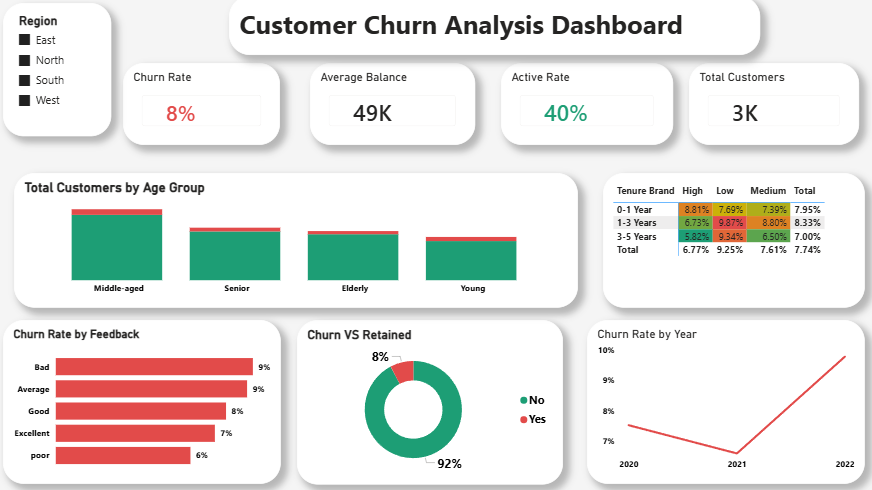

The dashboard page shown, as its layout file describes it:
{"tool":"powerbi","page":{"name":"Page 1","canvas":[1280,720],"ordinal":0},"visuals":[{"type":"cardVisual","title":"Churn Rate","fields":{"Data":["Customer_churn_analysis_dataset.Churn Rate"]},"box":[190.1,102.2,226.1,118.1],"z":0},{"type":"cardVisual","title":"Active Rate","fields":{"Data":["Customer_churn_analysis_dataset.Active Rate"]},"box":[734.4,102.2,247.7,118.1],"z":1000},{"type":"cardVisual","title":"Average Balance","fields":{"Data":["Customer_churn_analysis_dataset.Avg Balance"]},"box":[459.4,102.2,237.6,118.1],"z":2000},{"type":"cardVisual","title":"Total Customers","fields":{"Data":["Customer_churn_analysis_dataset.Total Customers"]},"box":[1005.1,102.2,244.8,118.1],"z":3000},{"type":"donutChart","title":"Churn VS Retained","fields":{"Category":["Customer_churn_analysis_dataset.Churn"],"Y":["Customer_churn_analysis_dataset.Total Customers"]},"box":[440.1,472,383,236.9],"z":4000},{"type":"columnChart","title":"Total Customers by Age Group","fields":{"Category":["Customer_churn_analysis_dataset.Age Group"],"Y":["Customer_churn_analysis_dataset.Total Customers"],"Series":["Customer_churn_analysis_dataset.Churn"]},"box":[33.1,260.6,812.2,194.4],"z":5000},{"type":"pivotTable","fields":{"Rows":["Customer_churn_analysis_dataset.Tenure Band"],"Columns":["Customer_churn_analysis_dataset.Balance Category"],"Values":["Customer_churn_analysis_dataset.Churn Rate"]},"box":[881.3,260.6,377.3,194.4],"z":6000},{"type":"lineChart","fields":{"Category":["Customer_churn_analysis_dataset.JoinDate.Variation.Date Hierarchy.Year","Customer_churn_analysis_dataset.JoinDate.Variation.Date Hierarchy.Quarter","Customer_churn_analysis_dataset.JoinDate.Variation.Date Hierarchy.Month","Customer_churn_analysis_dataset.JoinDate.Variation.Date Hierarchy.Day"],"Y":["Customer_churn_analysis_dataset.Churn Rate"]},"box":[858.2,472.3,400.3,236.2],"z":7000},{"type":"textbox","box":[342.7,5.8,764.6,85],"z":8000},{"type":"barChart","fields":{"Category":["Customer_churn_analysis_dataset.Feedback"],"Y":["Customer_churn_analysis_dataset.Churn Rate"]},"box":[17.3,472.3,400.3,236.2],"z":9000},{"type":"slicer","fields":{"Values":["Customer_churn_analysis_dataset.Region"]},"box":[17.3,15.8,155.5,191.5],"z":10000}]}

Visuals, with their boxes in screenshot pixels (x1, y1, x2, y2), scaled from the page's 1280x720 canvas onto the 872x490 screenshot:
"Churn Rate" cardVisual: Rect(130, 70, 284, 150)
"Active Rate" cardVisual: Rect(500, 70, 669, 150)
"Average Balance" cardVisual: Rect(313, 70, 475, 150)
"Total Customers" cardVisual: Rect(685, 70, 851, 150)
"Churn VS Retained" donutChart: Rect(300, 321, 561, 482)
"Total Customers by Age Group" columnChart: Rect(23, 177, 576, 310)
pivotTable - Customer_churn_analysis_dataset.Tenure Band x Customer_churn_analysis_dataset.Balance Category: Rect(600, 177, 857, 310)
lineChart - Customer_churn_analysis_dataset.JoinDate.Variation.Date Hierarchy.Year x Customer_churn_analysis_dataset.JoinDate.Variation.Date Hierarchy.Quarter: Rect(585, 321, 857, 482)
textbox: Rect(233, 4, 754, 62)
barChart - Customer_churn_analysis_dataset.Feedback x Customer_churn_analysis_dataset.Churn Rate: Rect(12, 321, 284, 482)
slicer - Customer_churn_analysis_dataset.Region: Rect(12, 11, 118, 141)
